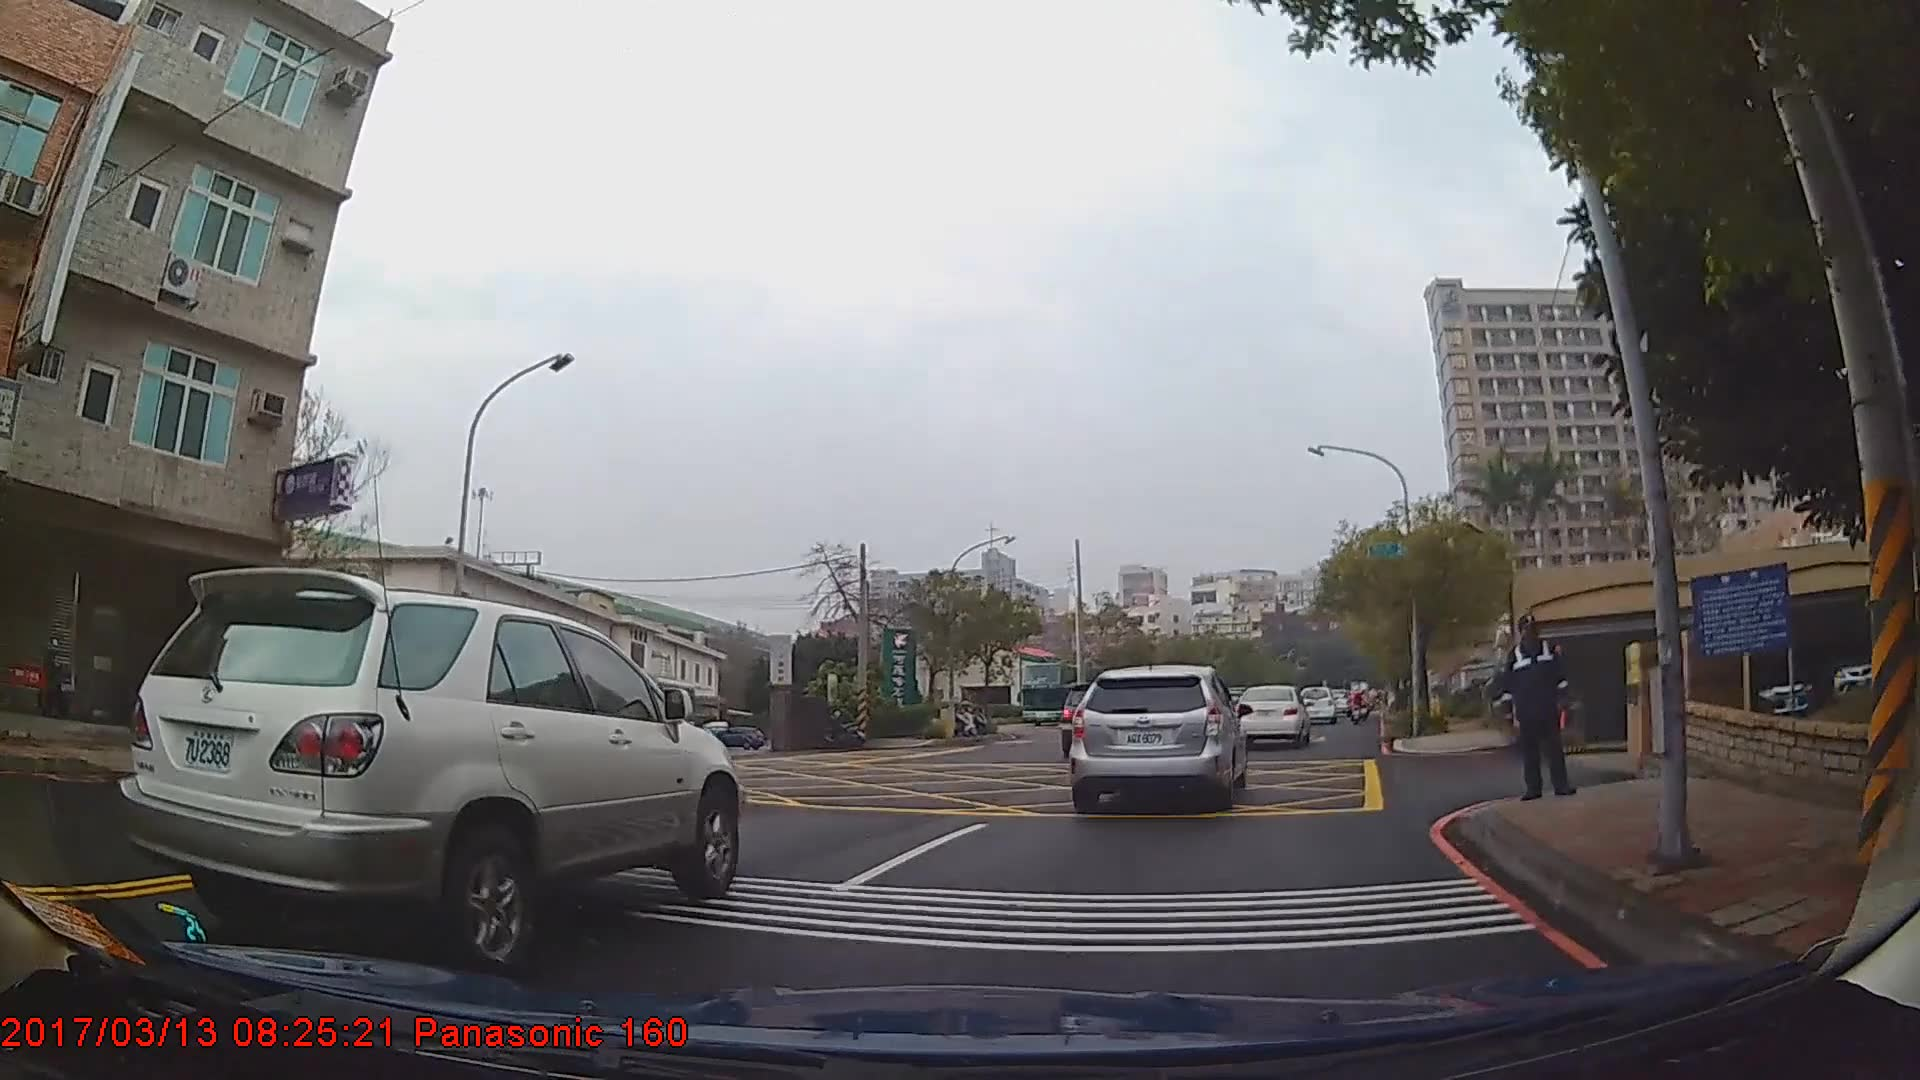pedestrian: (1504, 612, 1575, 803)
vehicle: (115, 563, 740, 976), (1069, 661, 1247, 813), (1231, 685, 1311, 751), (1299, 685, 1338, 726), (707, 725, 763, 747)
